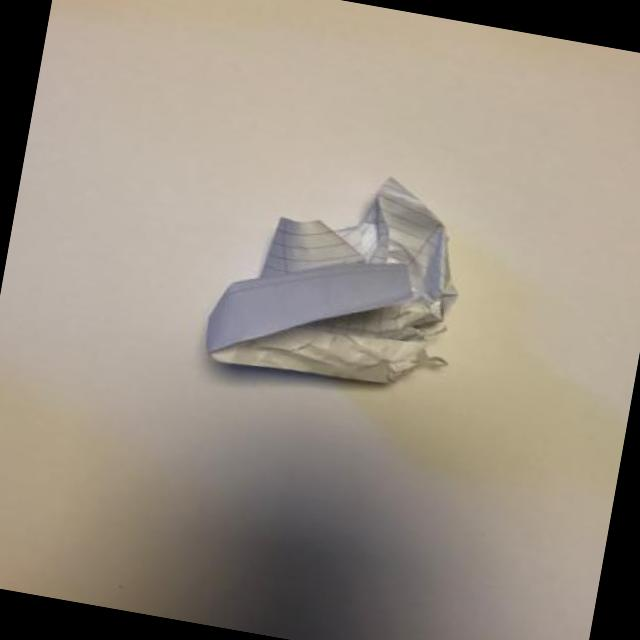paper: (220, 192, 472, 424)
